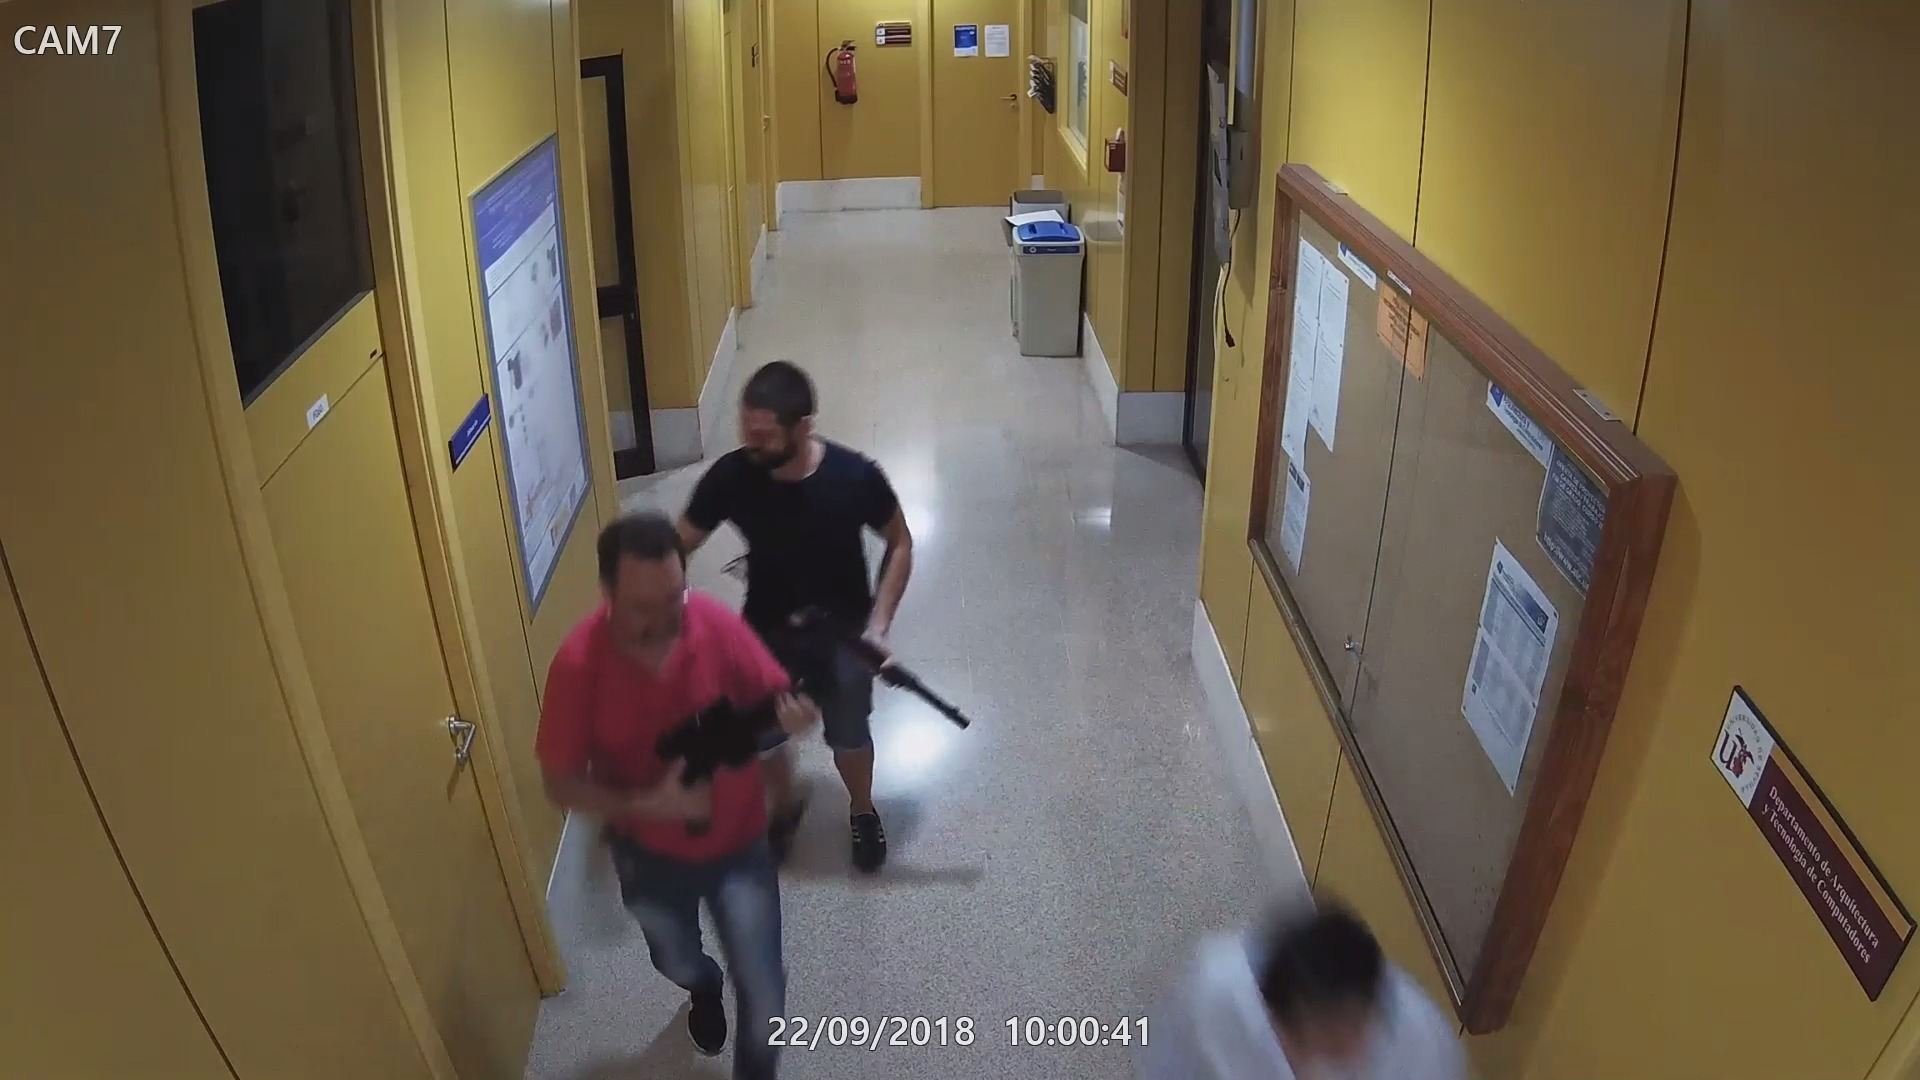Short_rifle: (731, 555, 975, 733), (653, 637, 831, 831)
